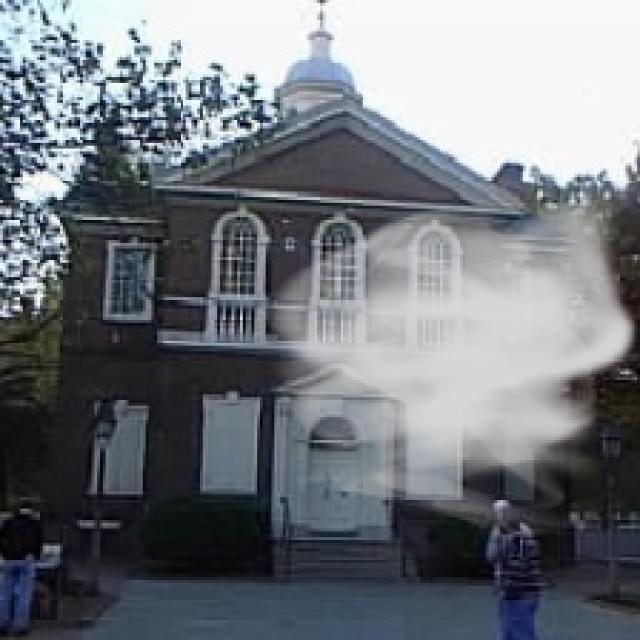Smoke: (257, 191, 637, 540)
